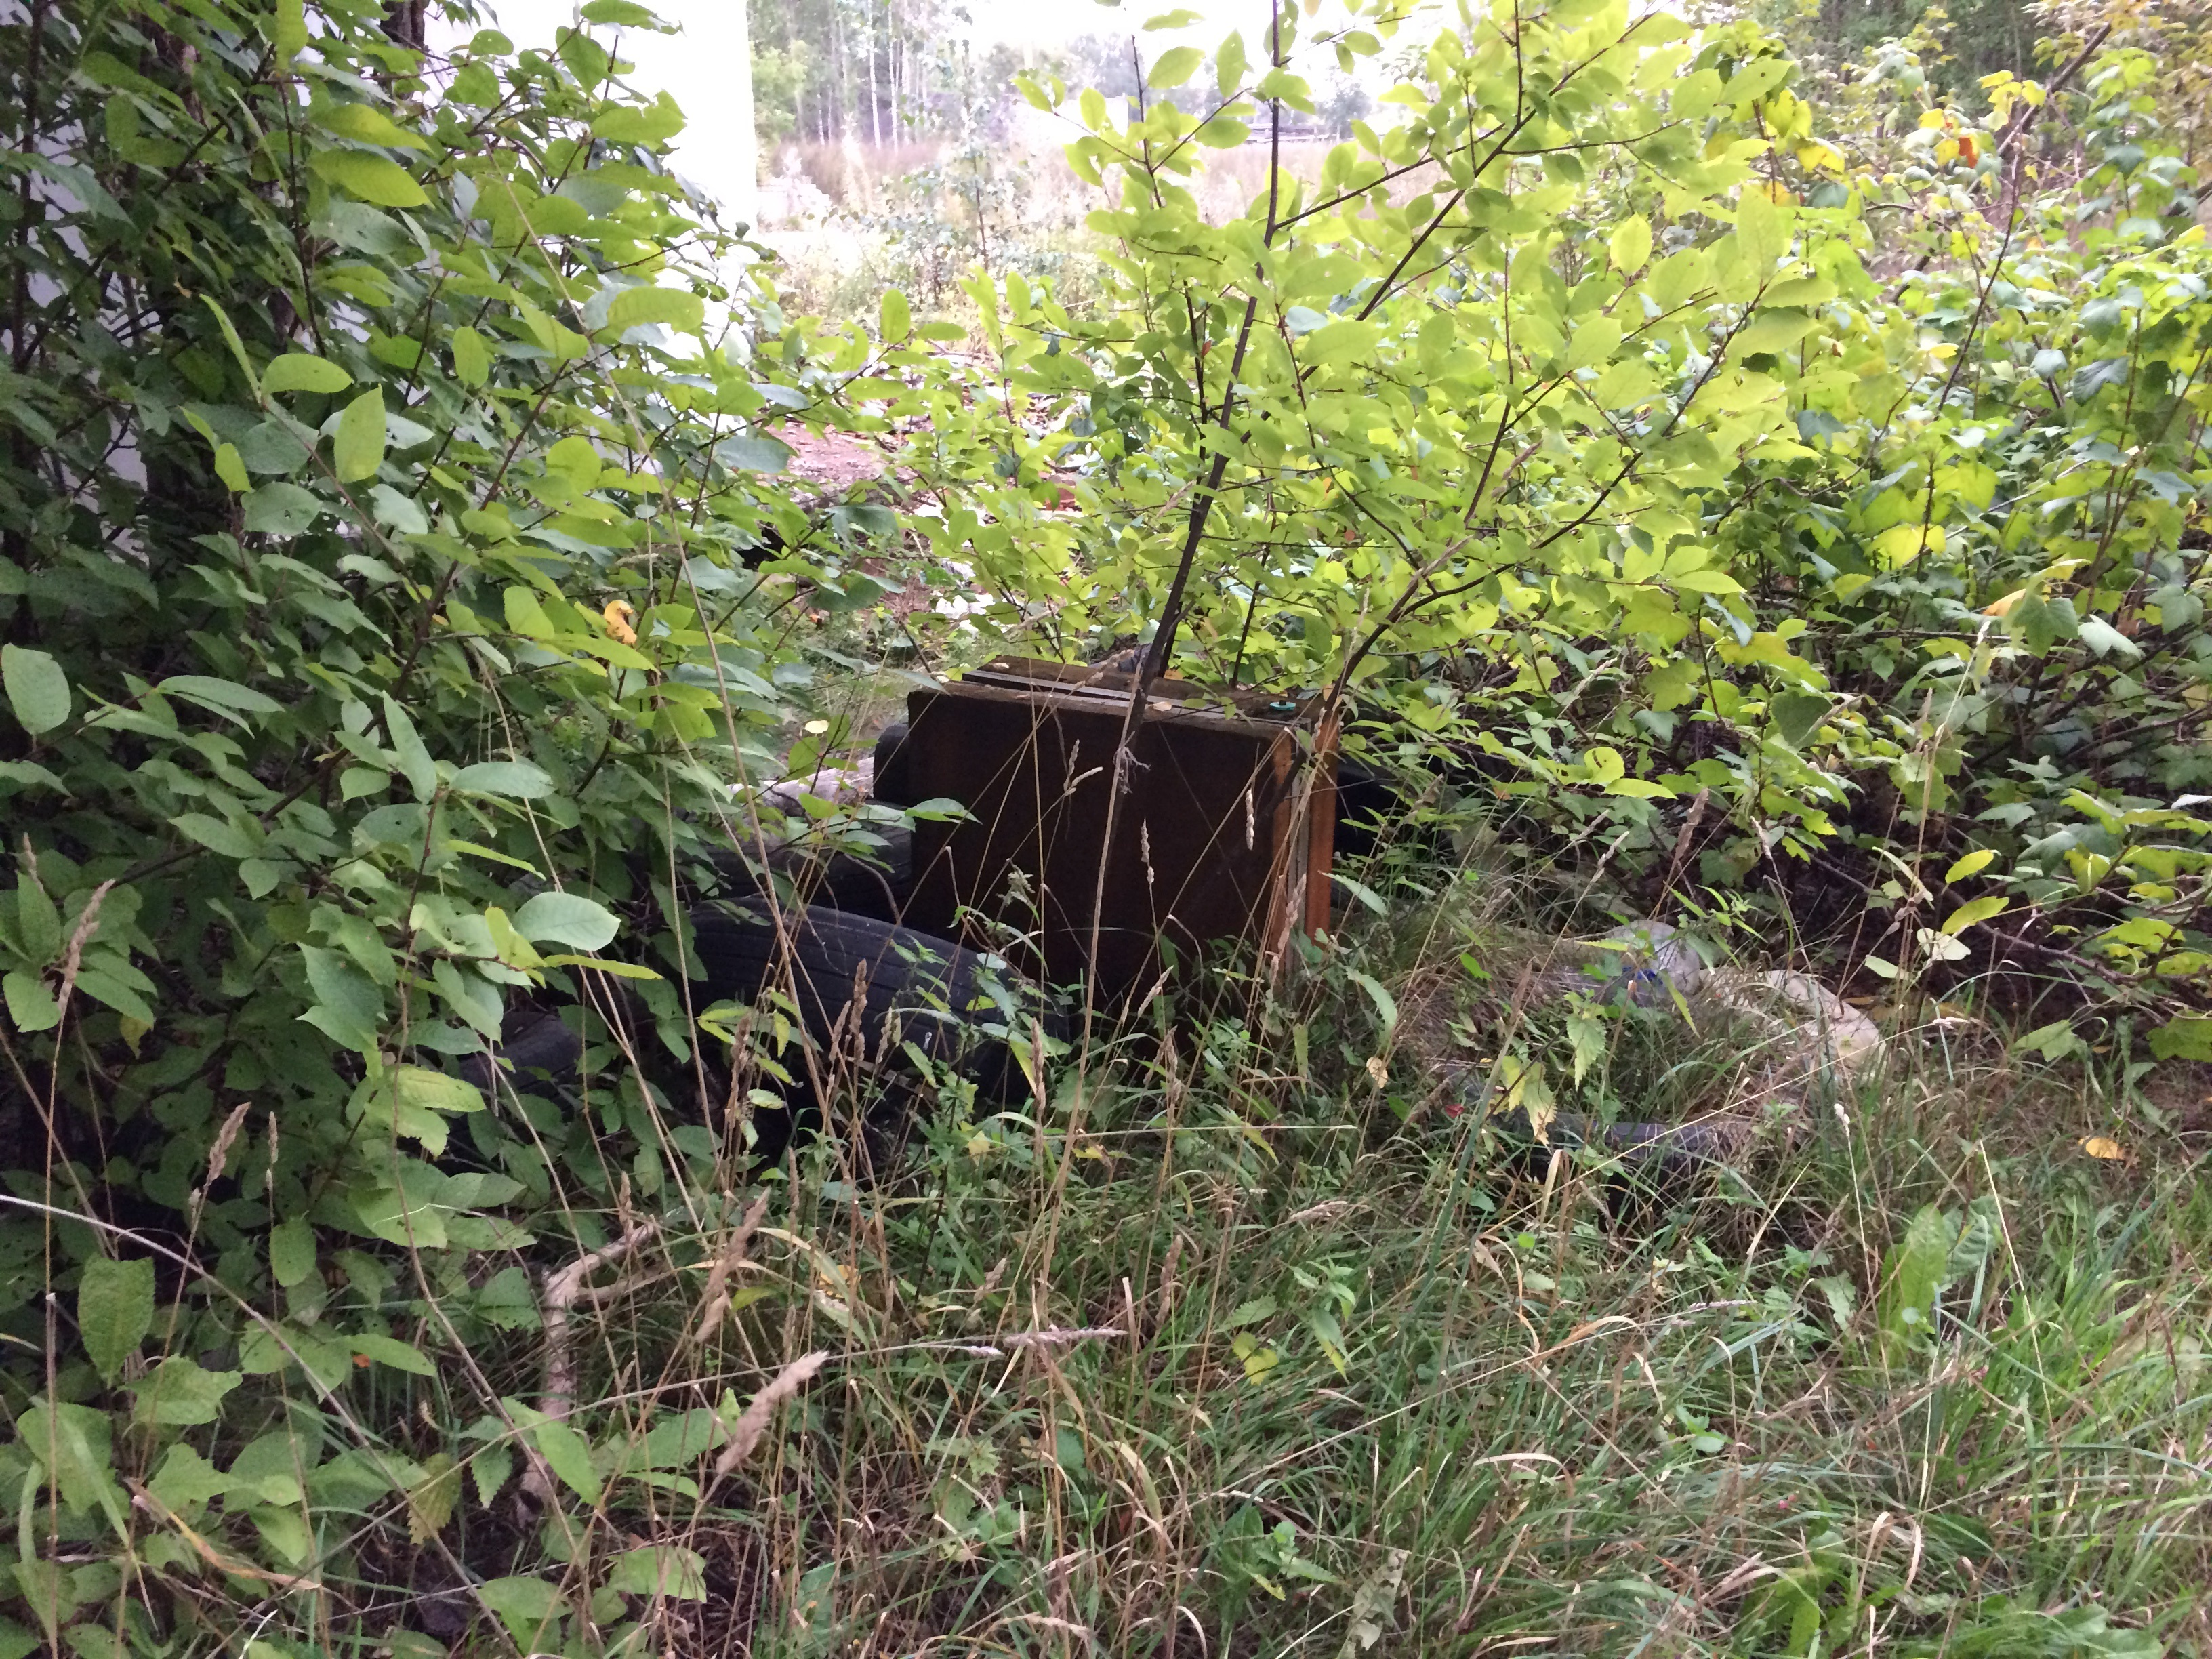trash: (399, 528, 1515, 1272), (1350, 835, 2019, 1337)
